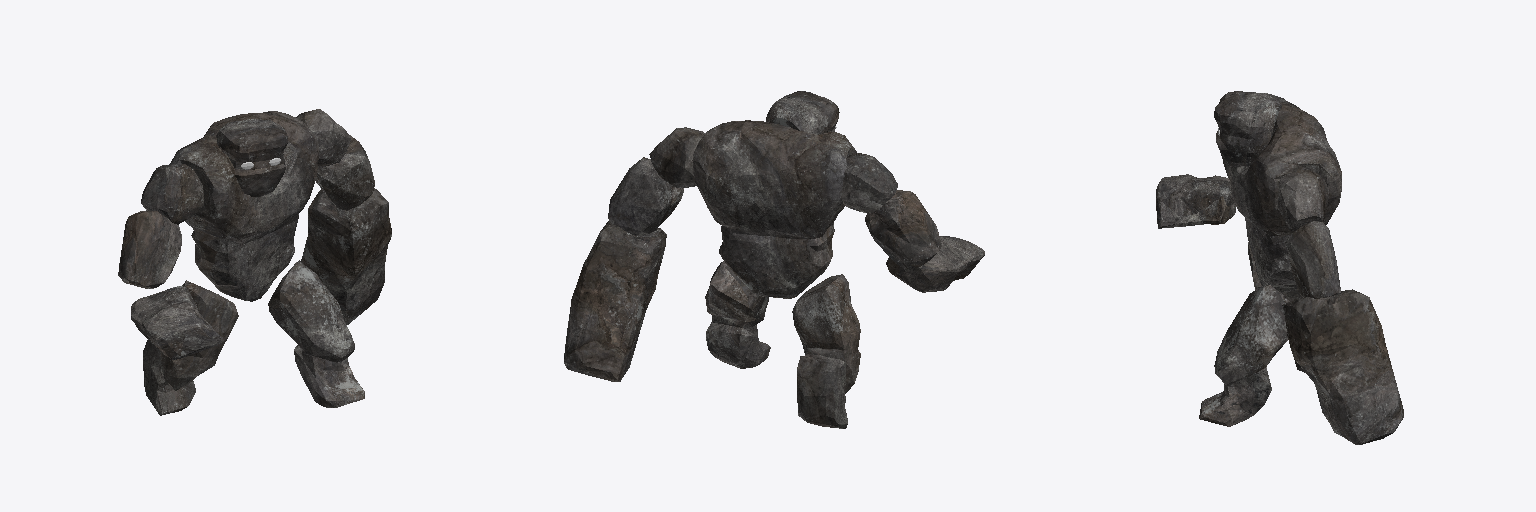
3 views of the same model, side by side, from view 1: azimuth 30°, elevation 25°; view 2: azimuth 150°, elevation 25°; view 3: azimuth 270°, elevation 25° (orthographic).
Visible parts, largest first — view 1: hands&leg.001_ice.003, torso.001_ice.005, head.001_ice.004; view 2: hands&leg.001_ice.003, torso.001_ice.005, head.001_ice.004; view 3: hands&leg.001_ice.003, torso.001_ice.005, head.001_ice.004.
Boxes of the visible parts, x1,y1,x2,y2 form: hands&leg.001_ice.003: [118, 109, 391, 415]; torso.001_ice.005: [170, 111, 319, 301]; head.001_ice.004: [216, 119, 287, 196]; hands&leg.001_ice.003: [564, 127, 984, 428]; torso.001_ice.005: [692, 120, 856, 298]; head.001_ice.004: [766, 91, 839, 134]; hands&leg.001_ice.003: [1156, 93, 1403, 444]; torso.001_ice.005: [1228, 100, 1341, 292]; head.001_ice.004: [1214, 91, 1281, 167].
Bounding box in the file's own units: 11.04 × 9.64 × 7.35.
2 materials, 1 textured.